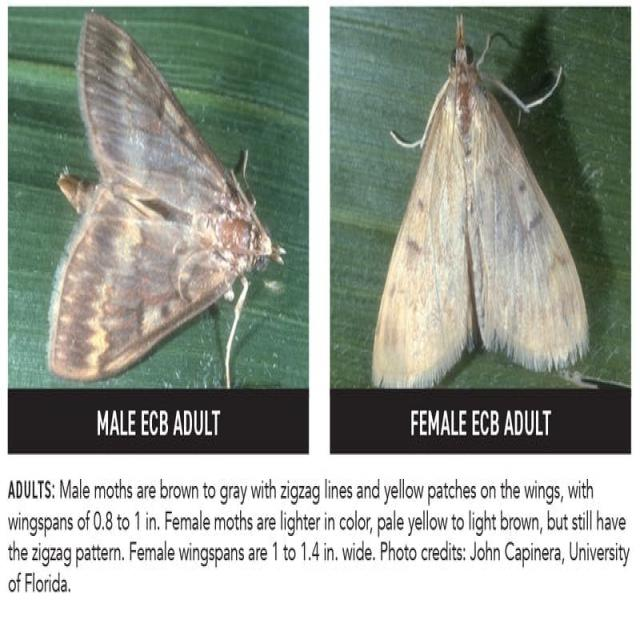cornborer-Adult-: (41, 7, 284, 384), (370, 9, 594, 382)
